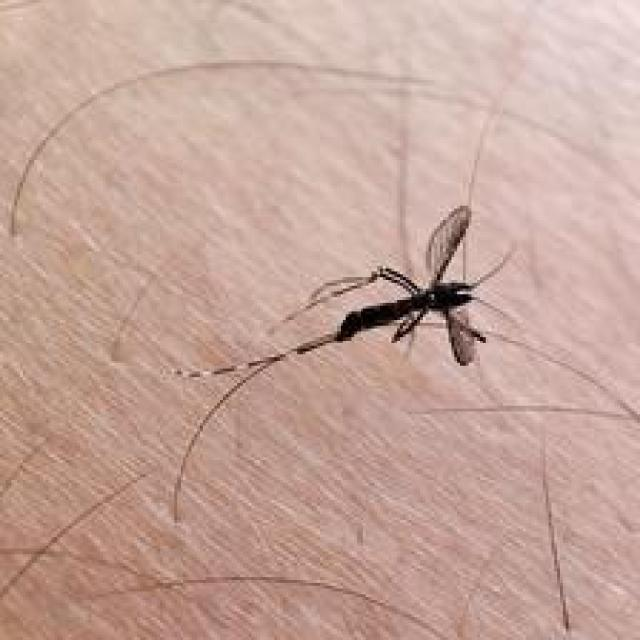Aedes albopictus: (5, 55, 640, 527)
